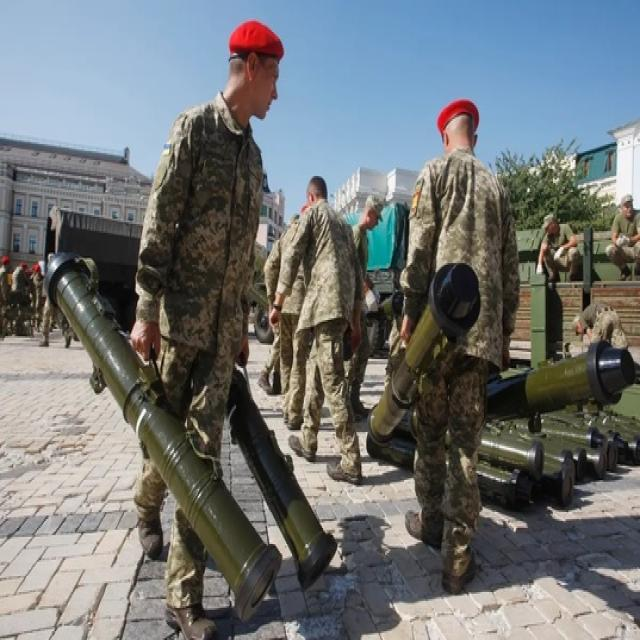bazooka: (27, 248, 300, 628), (205, 352, 363, 621), (353, 228, 498, 482), (482, 334, 633, 445)
